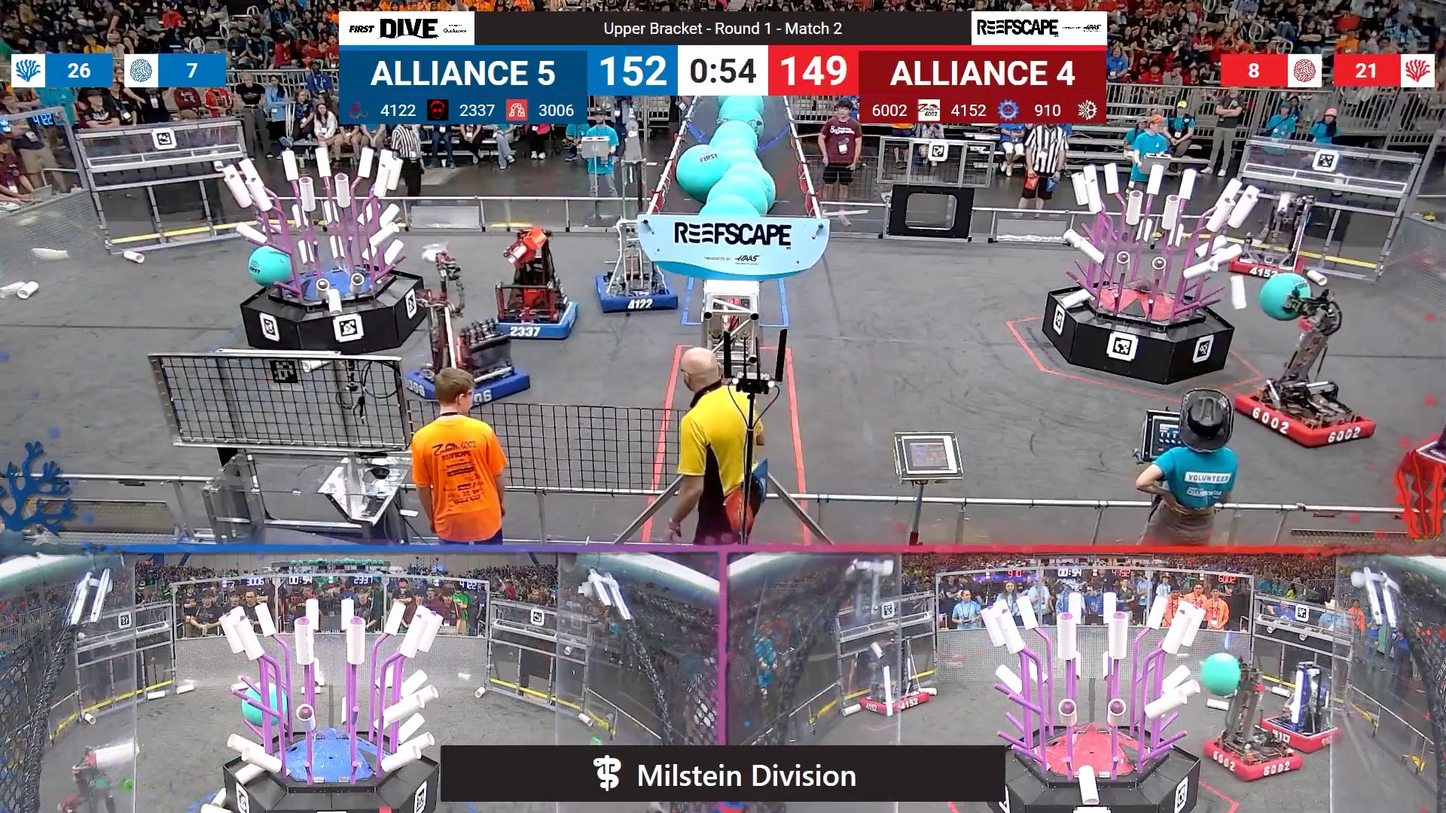bumpers: (1225, 385, 1380, 452), (402, 356, 537, 413), (1196, 732, 1311, 784), (484, 292, 581, 345), (590, 267, 683, 318), (853, 685, 935, 717)
